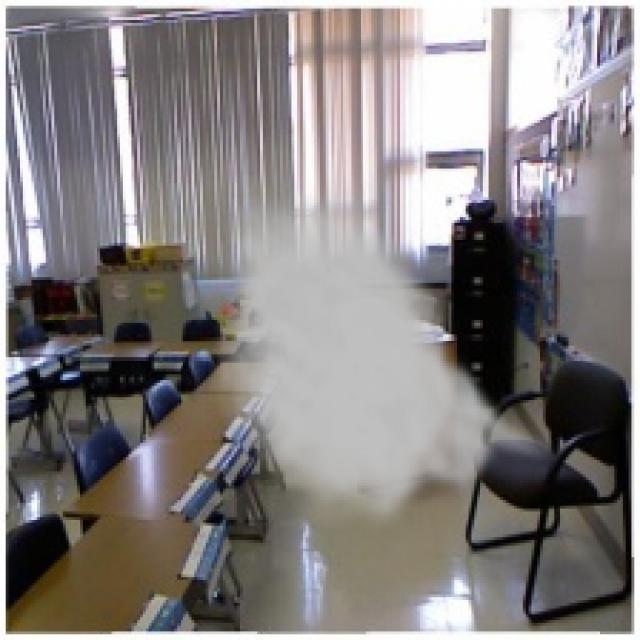smoke: (209, 172, 560, 534)
